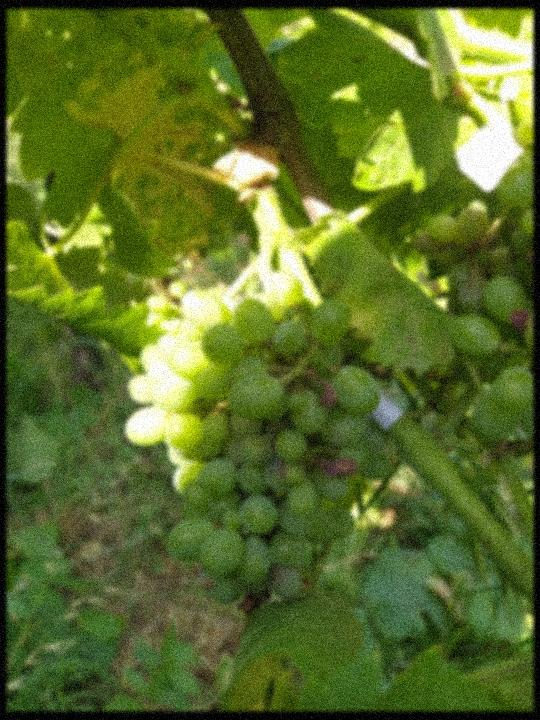grape: (122, 269, 382, 606)
